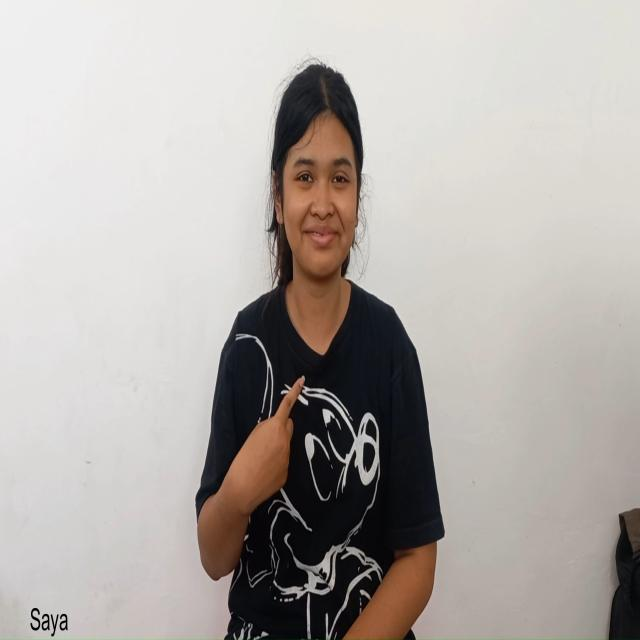Saya -BISINDO-: (196, 373, 306, 582)
